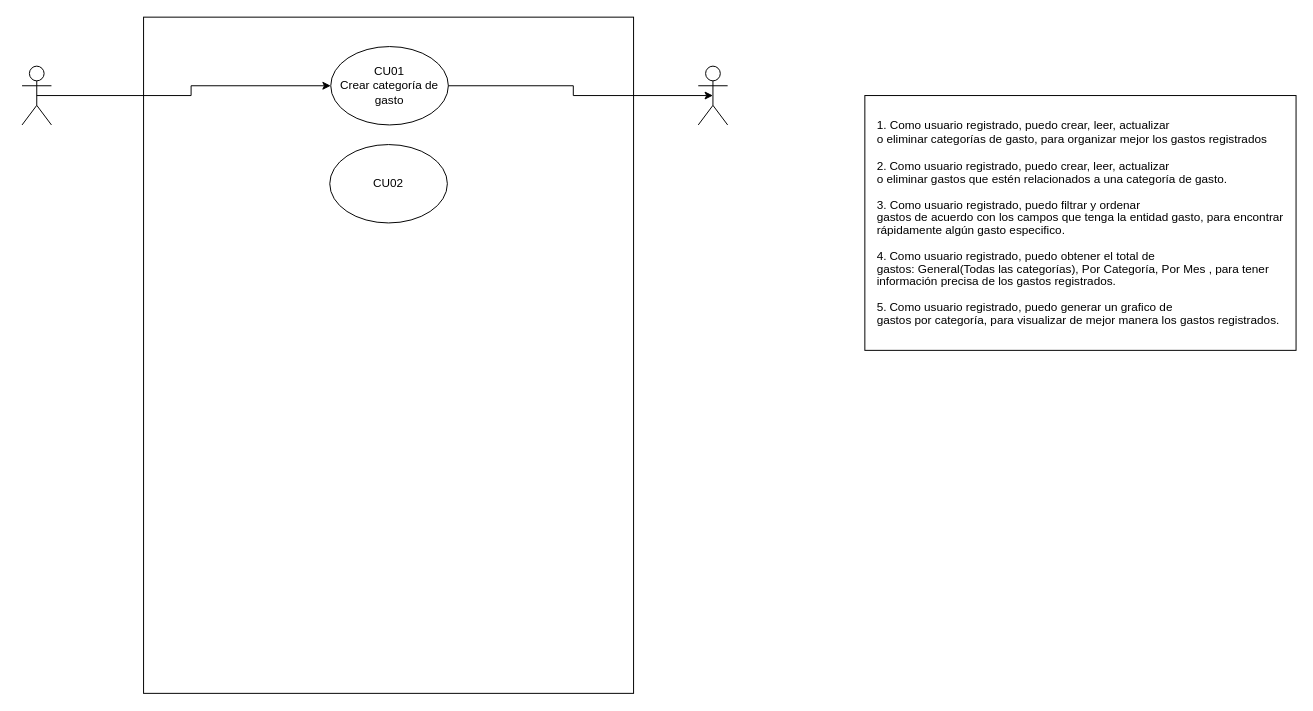
The diagram is 1313 pixels wide and 711 high, and some of its shapes have lost their labels. The shapes that lost their labels are listed below. From the top down, each one's centre as x and y in pixels, then its label:
the point at 36,95: Usuario
the point at 712,95: Base de datos
